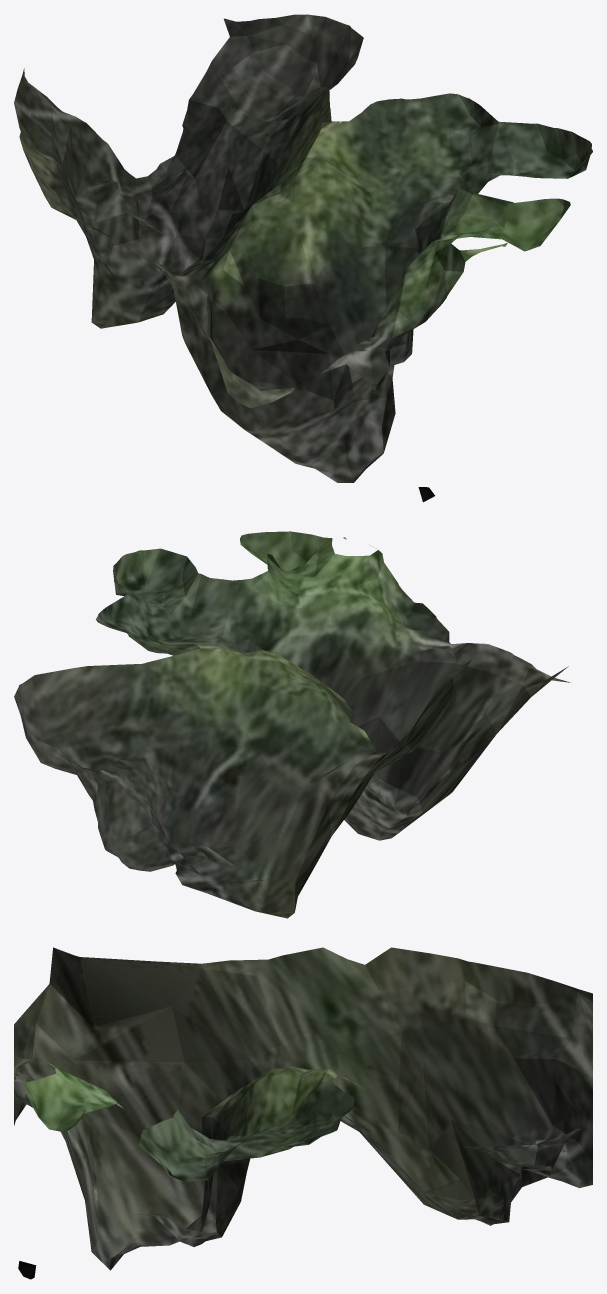
3 views of the same model, one above another, from view 1: azimuth 30°, elevation 25°; view 2: azimuth 150°, elevation 25°; view 3: azimuth 270°, elevation 25° (orthographic). The views are drawn at different scales.
Size of the model in its own units: 5.04 by 2.7 by 5.9.
3 materials, 3 textured.
